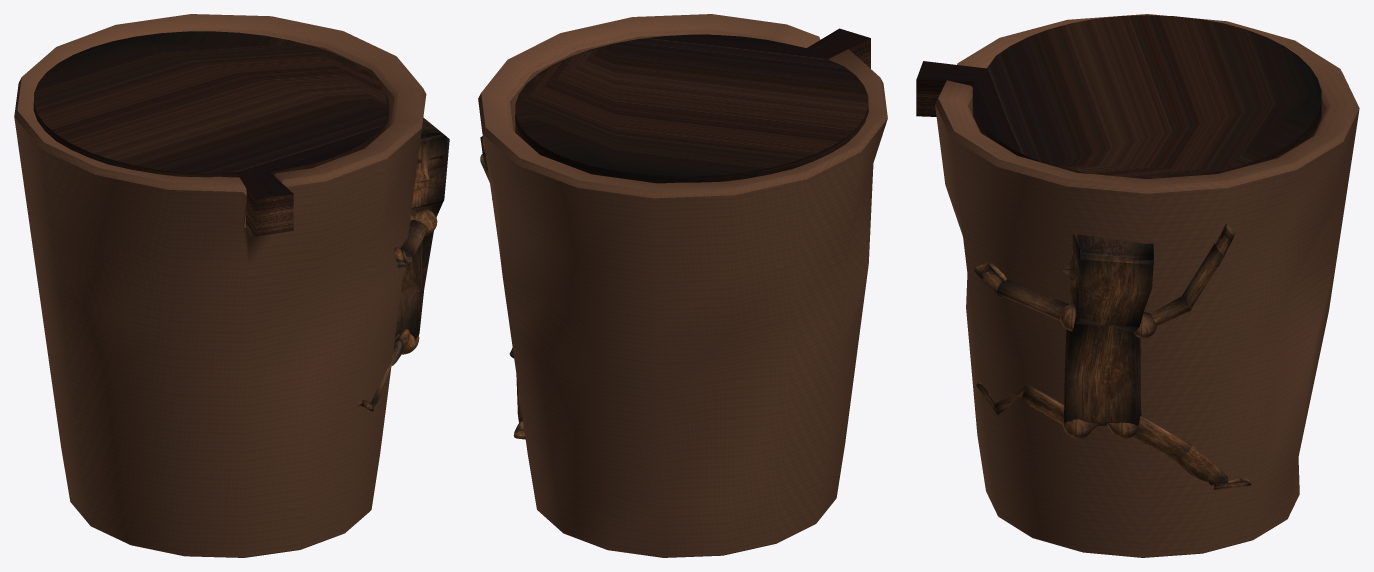
Rendered from _nakasabit.FBX.
The picture shows the model from 3 angles, left to right: view 1: azimuth 30°, elevation 25°; view 2: azimuth 150°, elevation 25°; view 3: azimuth 270°, elevation 25°; orthographic projection.
Visible parts, largest first — view 1: Line001; view 2: Line001; view 3: Line001.
Part boxes in pixels (<box>): Line001: <box>14,14,449,557</box>; Line001: <box>478,14,887,557</box>; Line001: <box>916,14,1359,557</box>.
Size of the model in its own units: 41.16 by 41.41 by 41.47.
